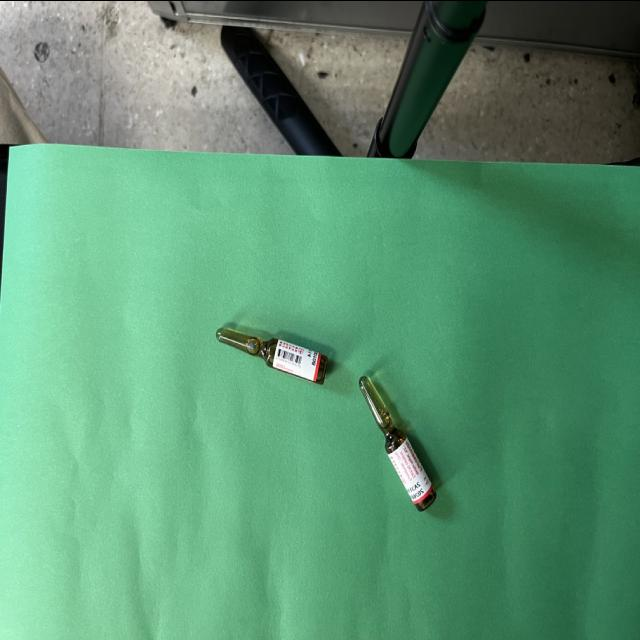Ampoules: (358, 375, 437, 511), (216, 327, 328, 384)
